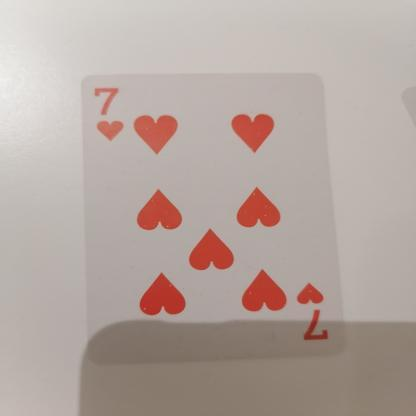7H: (284, 272, 337, 350), (92, 80, 131, 152)
